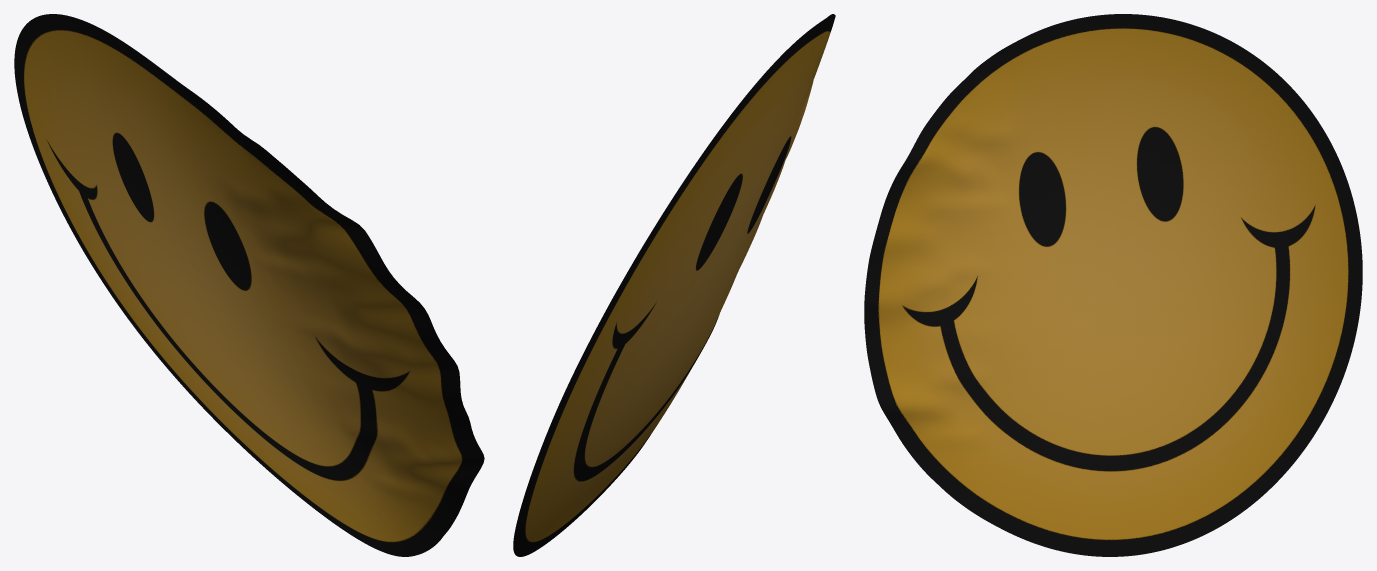
File: Smiley.glb
The picture shows the model from 3 angles, left to right: view 1: azimuth 30°, elevation 25°; view 2: azimuth 150°, elevation 25°; view 3: azimuth 270°, elevation 25°; orthographic projection. The views are drawn at different scales.
Parts seen in each view (by area): view 1: Smiley; view 2: Smiley; view 3: Smiley.
Part boxes in pixels (x1,y1,x2,y2): Smiley: [14, 14, 484, 556]; Smiley: [513, 14, 835, 556]; Smiley: [864, 14, 1362, 556].
Bounding box in the file's own units: 0.0905 × 0.2009 × 0.2019.
Materials: 1 (1 with a texture image).
